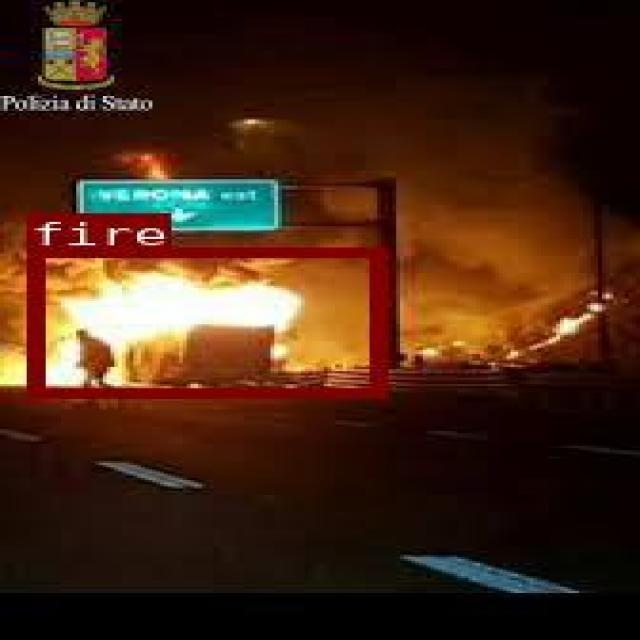fire: (26, 246, 383, 396)
